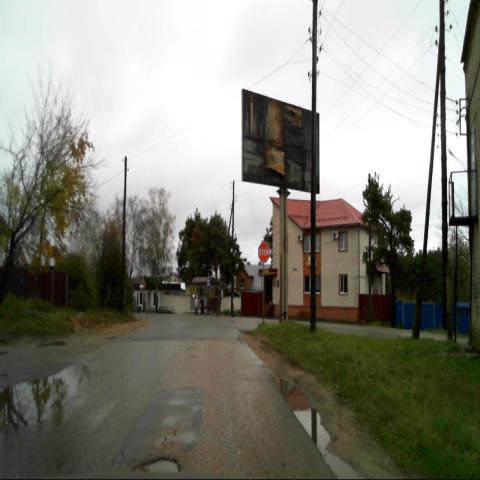2_5: (258, 241, 270, 264)
